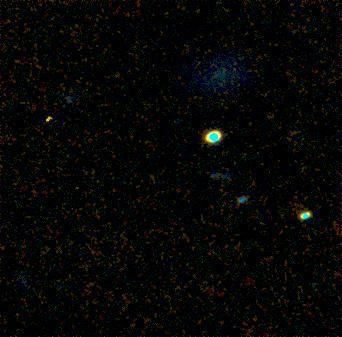star: (33, 101, 63, 131)
